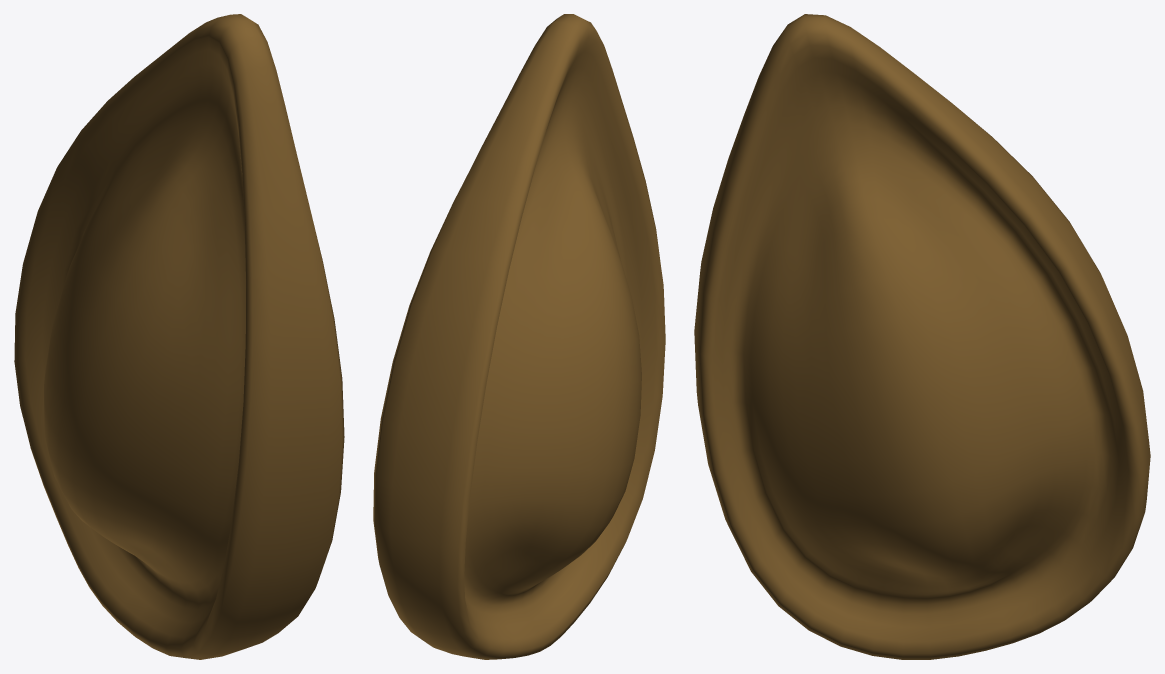
The model's file is pumSeed.fbx.
3 renders of one model, left to right at view 1: azimuth 30°, elevation 25°; view 2: azimuth 150°, elevation 25°; view 3: azimuth 270°, elevation 25°, orthographic. The views are drawn at different scales.
Parts seen in each view (by area): view 1: pumkinSeed; view 2: pumkinSeed; view 3: pumkinSeed.
Part boxes in pixels (x1,y1,x2,y2): pumkinSeed: [14, 14, 344, 659]; pumkinSeed: [373, 14, 665, 659]; pumkinSeed: [694, 14, 1150, 659].
Size of the model in its own units: 0.2592 by 0.6795 by 0.4437.
